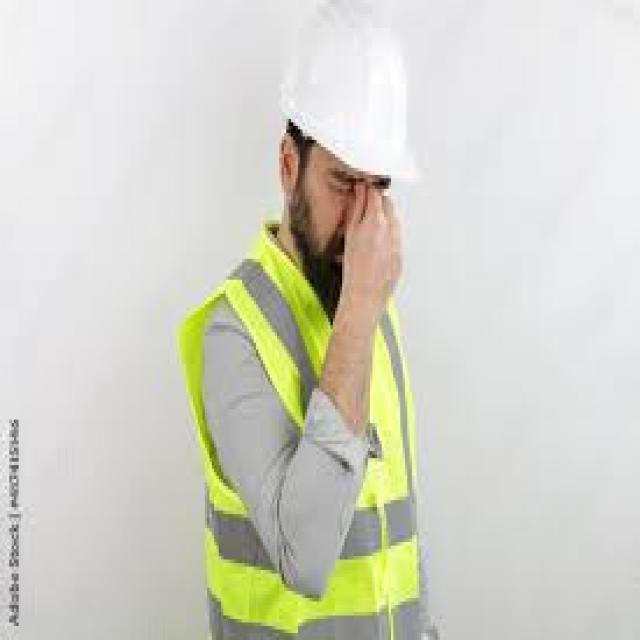reflective_jacket: (165, 255, 425, 625)
safety_helmet: (270, 10, 419, 188)
